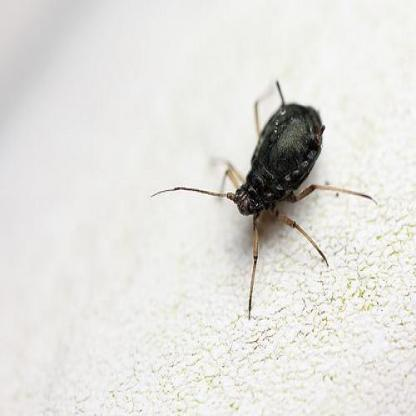aphid: (162, 81, 351, 308)
